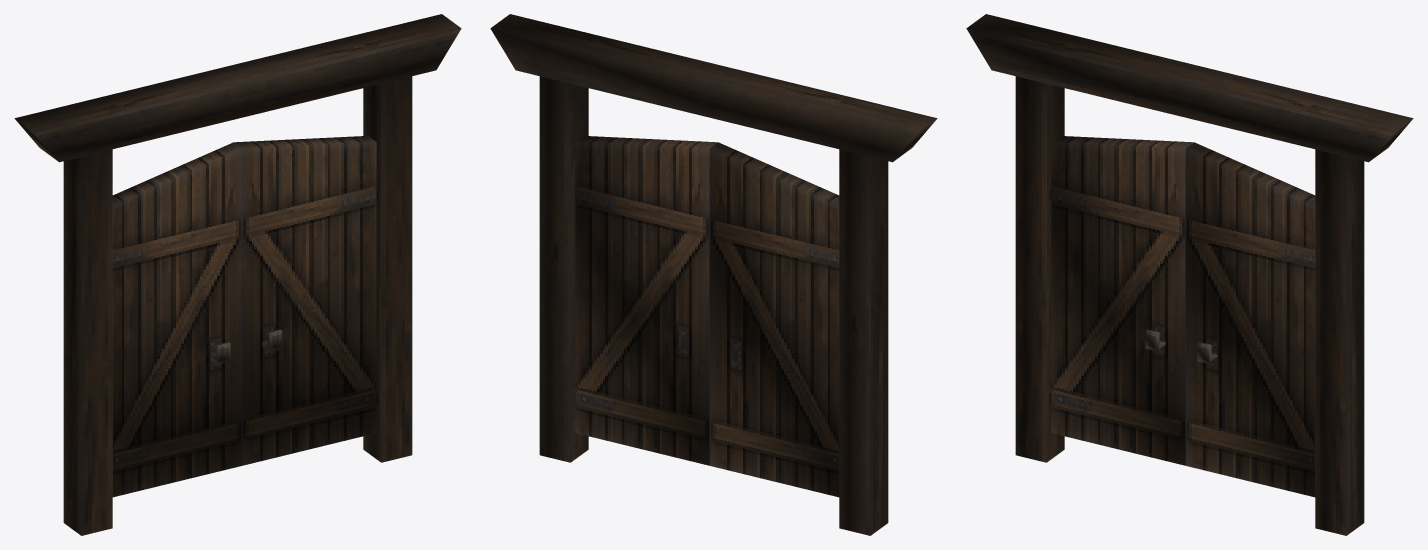
File: oga_gate.glb
3 views of the same model, side by side, from view 1: azimuth 30°, elevation 25°; view 2: azimuth 150°, elevation 25°; view 3: azimuth 330°, elevation 25° (orthographic).
Visible parts, largest first — view 1: oga_gate; view 2: oga_gate; view 3: oga_gate.
Part boxes in pixels (<box>): oga_gate: <box>14,14,461,535</box>; oga_gate: <box>490,14,937,535</box>; oga_gate: <box>966,14,1413,535</box>.
Size of the model in its own units: 4.23 by 3.93 by 0.3812.
1 material, 1 textured.
